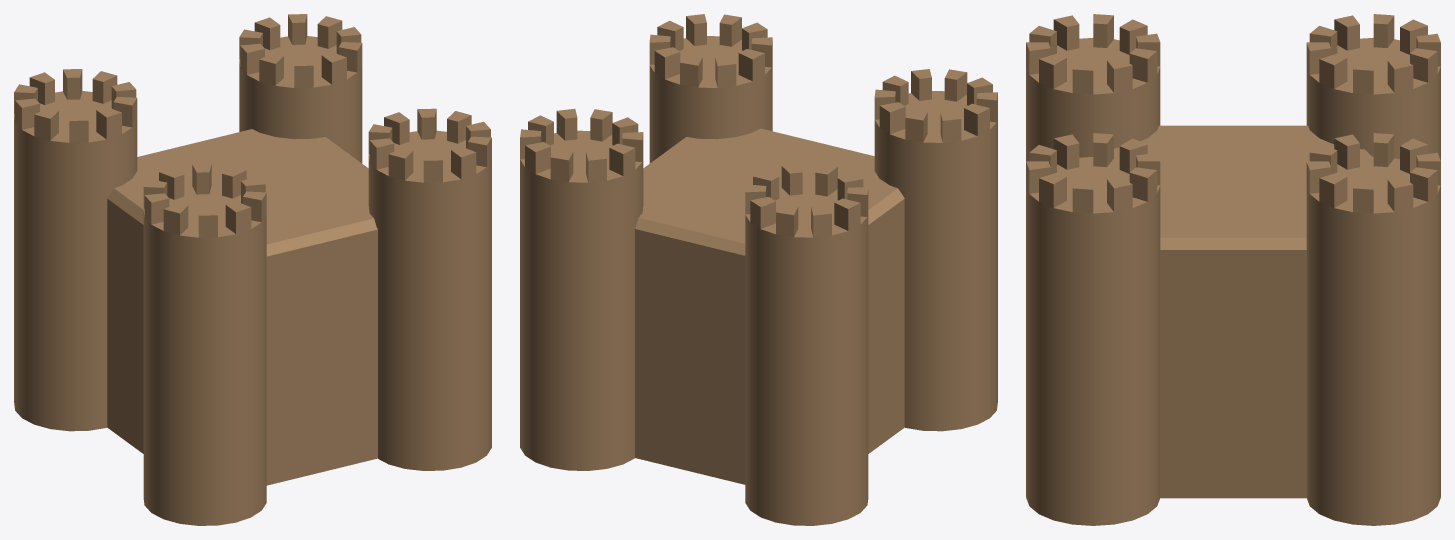
File: Sand Castle.fbx
3 views of the same model, side by side, from view 1: azimuth 30°, elevation 25°; view 2: azimuth 150°, elevation 25°; view 3: azimuth 270°, elevation 25° (orthographic). The views are drawn at different scales.
Parts seen in each view (by area): view 1: pCube1, pCylinder2, pCylinder1, pCylinder3, pCylinder4; view 2: pCube1, pCylinder3, pCylinder4, pCylinder2, pCylinder1; view 3: pCube1, pCylinder4, pCylinder1, pCylinder2, pCylinder3.
Boxes of the visible parts, bbox=[...] form: pCube1: bbox=[107, 129, 377, 485]; pCylinder2: bbox=[143, 163, 266, 525]; pCylinder1: bbox=[368, 108, 491, 470]; pCylinder3: bbox=[14, 69, 137, 431]; pCylinder4: bbox=[239, 14, 362, 163]; pCube1: bbox=[635, 128, 904, 484]; pCylinder3: bbox=[745, 163, 868, 525]; pCylinder4: bbox=[520, 108, 643, 470]; pCylinder2: bbox=[874, 69, 997, 431]; pCylinder1: bbox=[649, 14, 772, 163]; pCube1: bbox=[1114, 125, 1372, 498]; pCylinder4: bbox=[1306, 133, 1440, 525]; pCylinder1: bbox=[1026, 133, 1160, 525]; pCylinder2: bbox=[1026, 14, 1160, 161]; pCylinder3: bbox=[1306, 14, 1440, 160].
Size of the model in its own units: 1.47 by 1.31 by 1.46.
